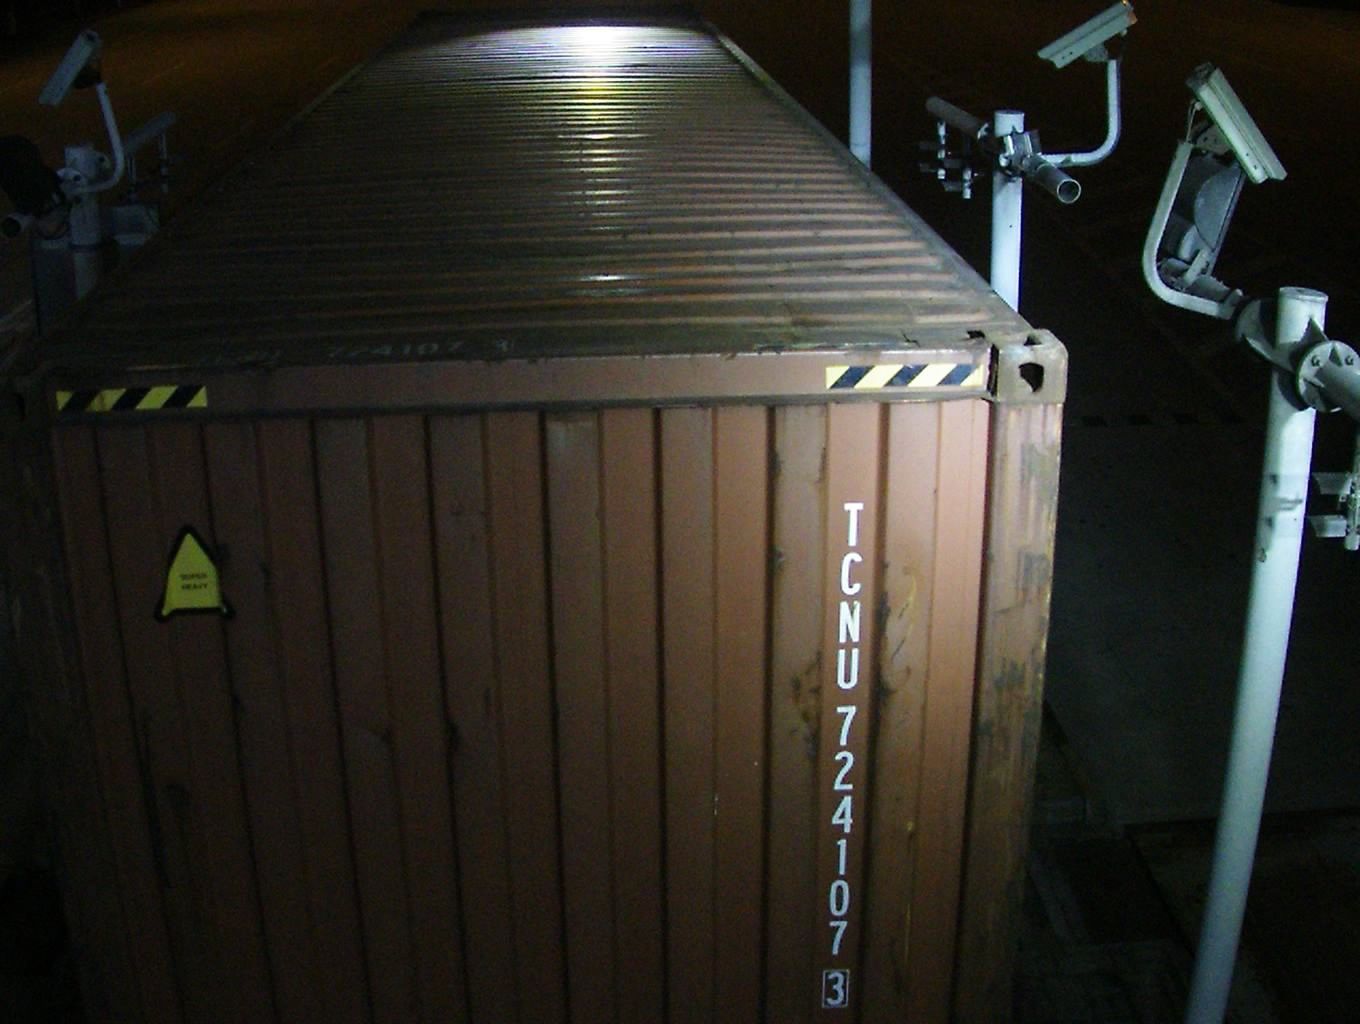words: (822, 493, 869, 1012)
